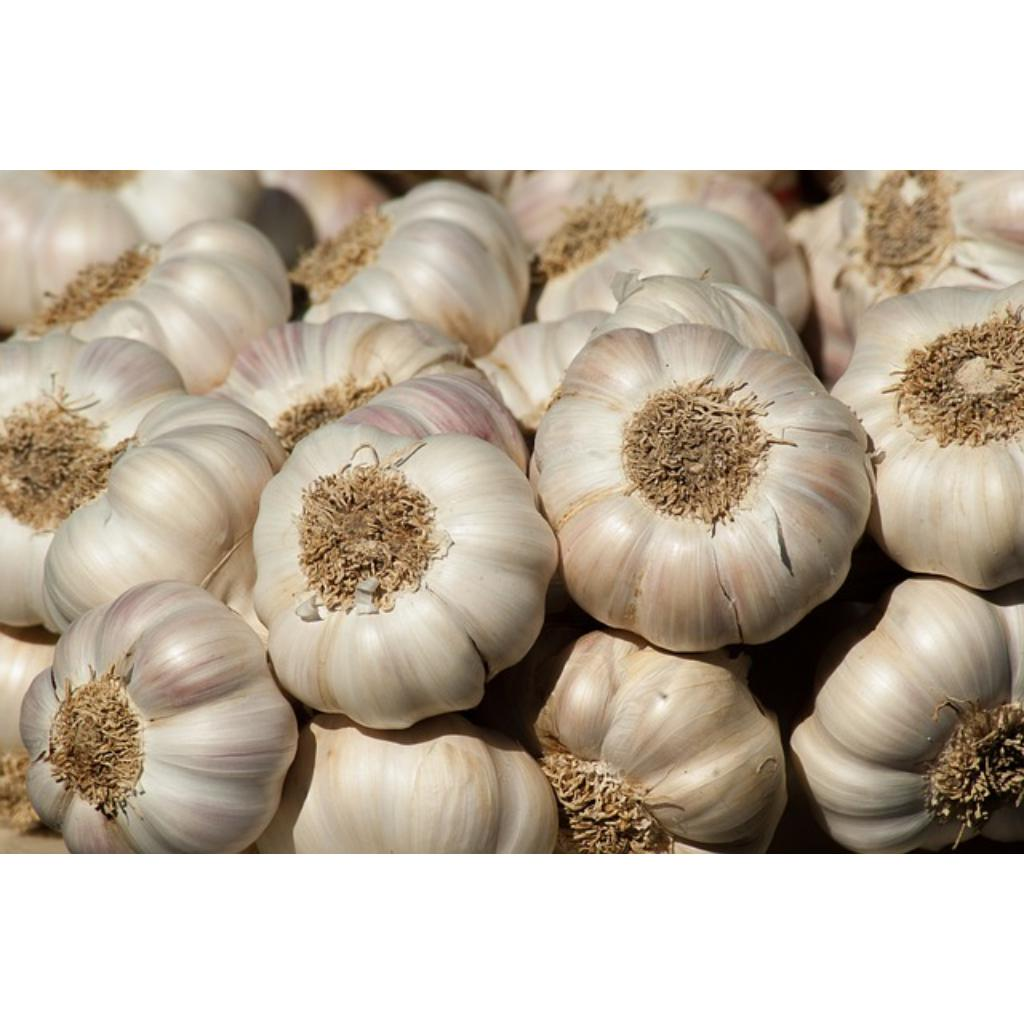garlic: (475, 277, 1023, 646), (254, 420, 558, 729), (20, 584, 298, 854), (792, 578, 1024, 854), (44, 394, 284, 635), (536, 630, 786, 852), (0, 332, 184, 625), (256, 716, 558, 854), (307, 183, 522, 361), (827, 170, 1022, 318)
